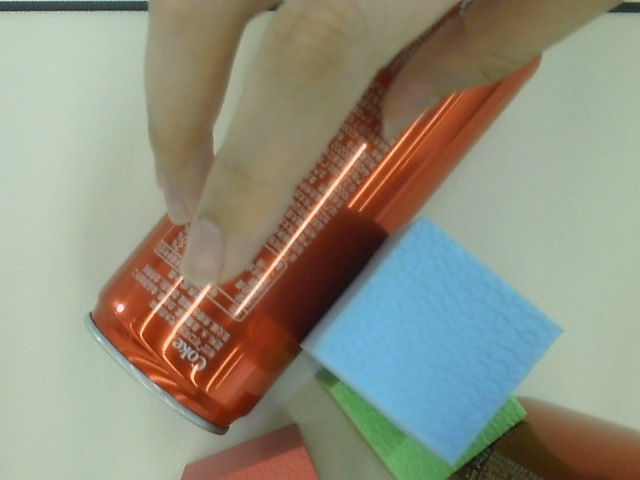bluecube: (294, 221, 561, 466)
cola: (69, 13, 566, 442)
greencube: (306, 361, 547, 480)
redcube: (164, 417, 342, 480)
